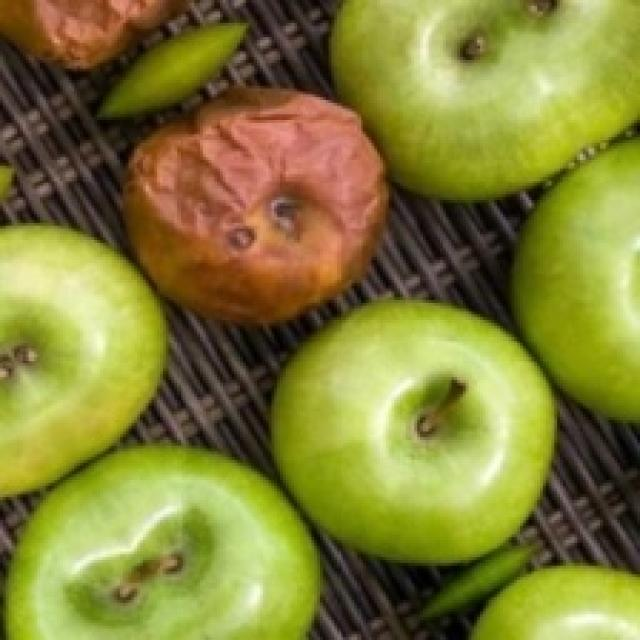rotten_apple: (126, 98, 385, 316)
